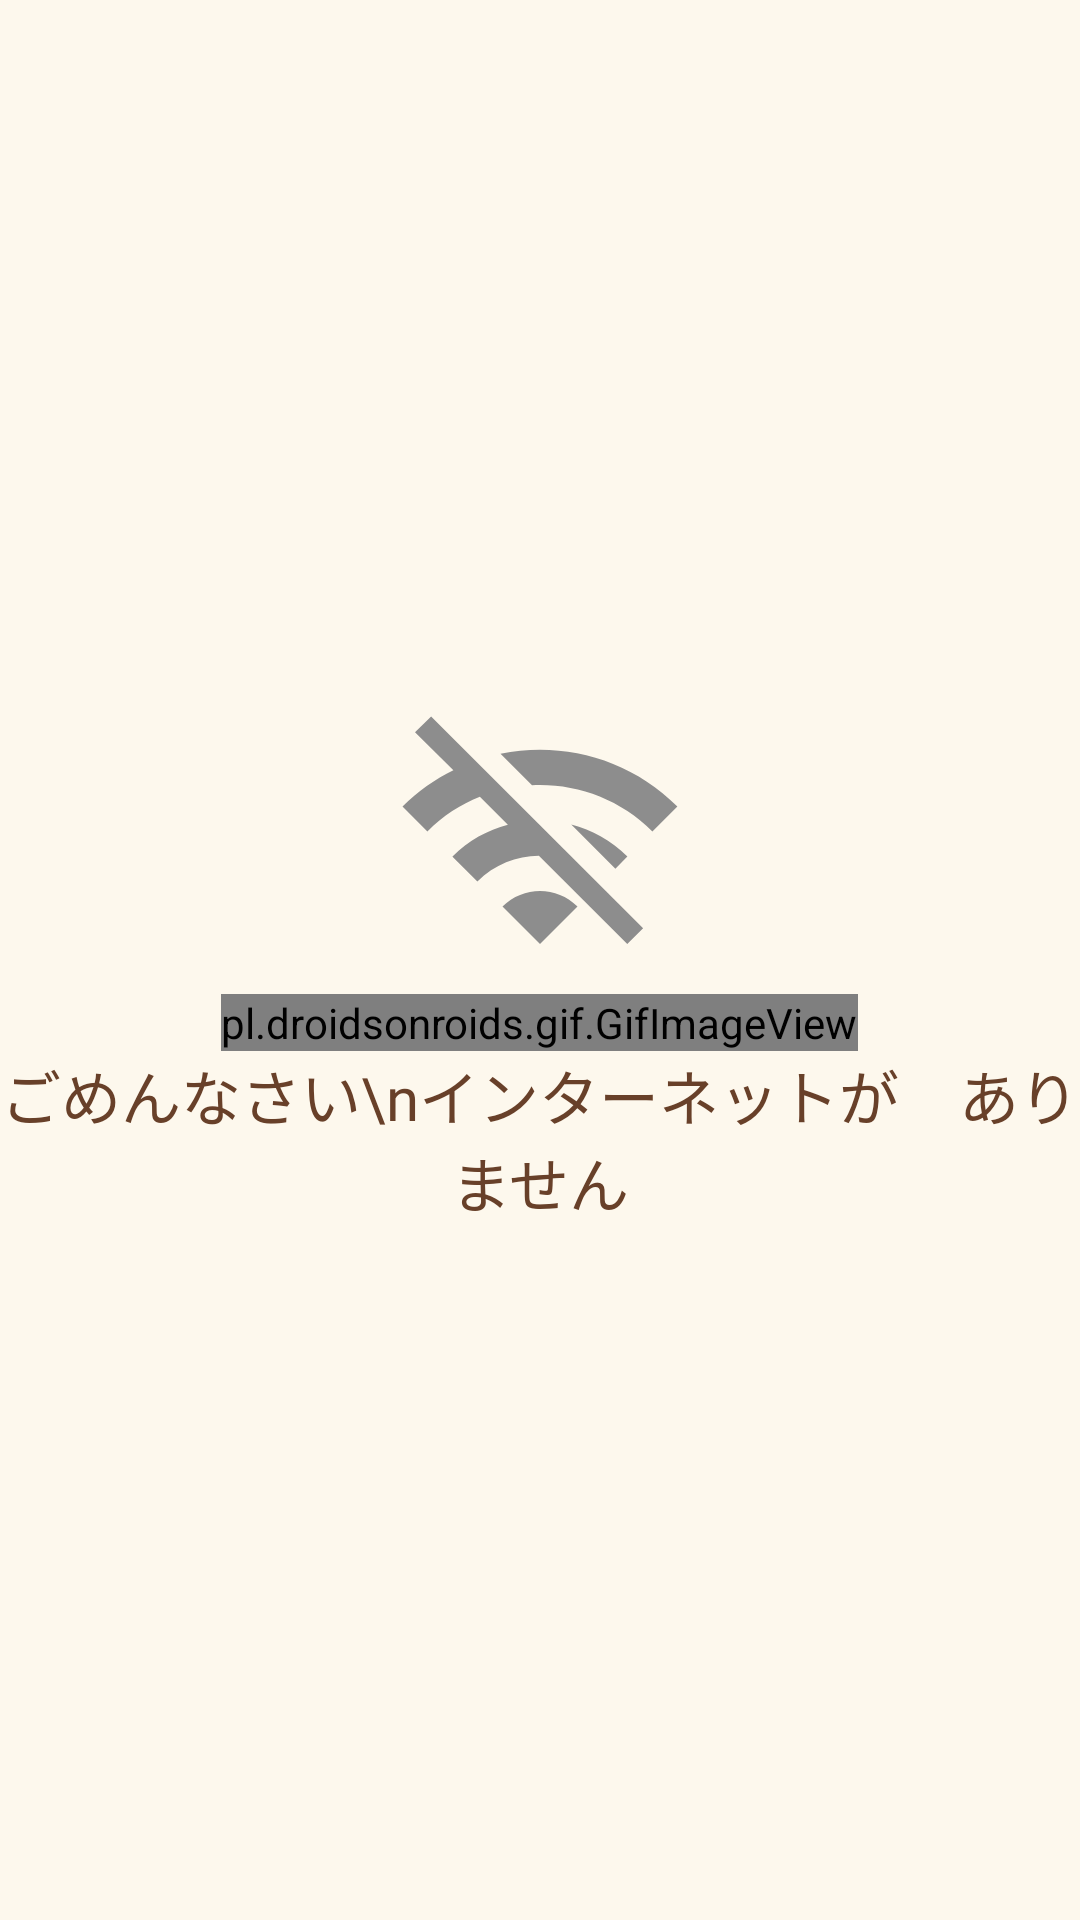

Named icons in this screenshot (1080px×1920px) and their bounding boxes, (x1, y1, x2, y2):
wifi off: (402, 717, 677, 944)
